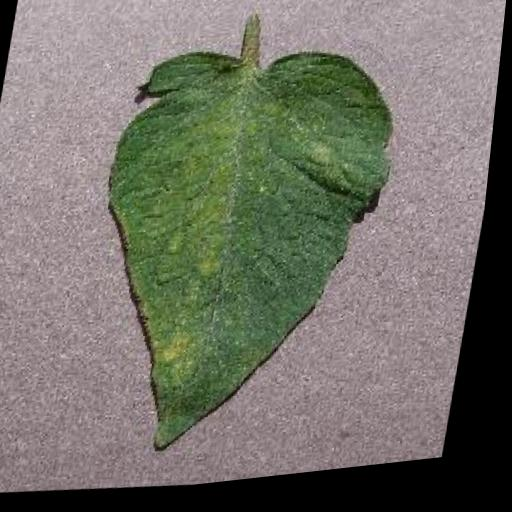Spider Mites: (69, 33, 416, 481)
